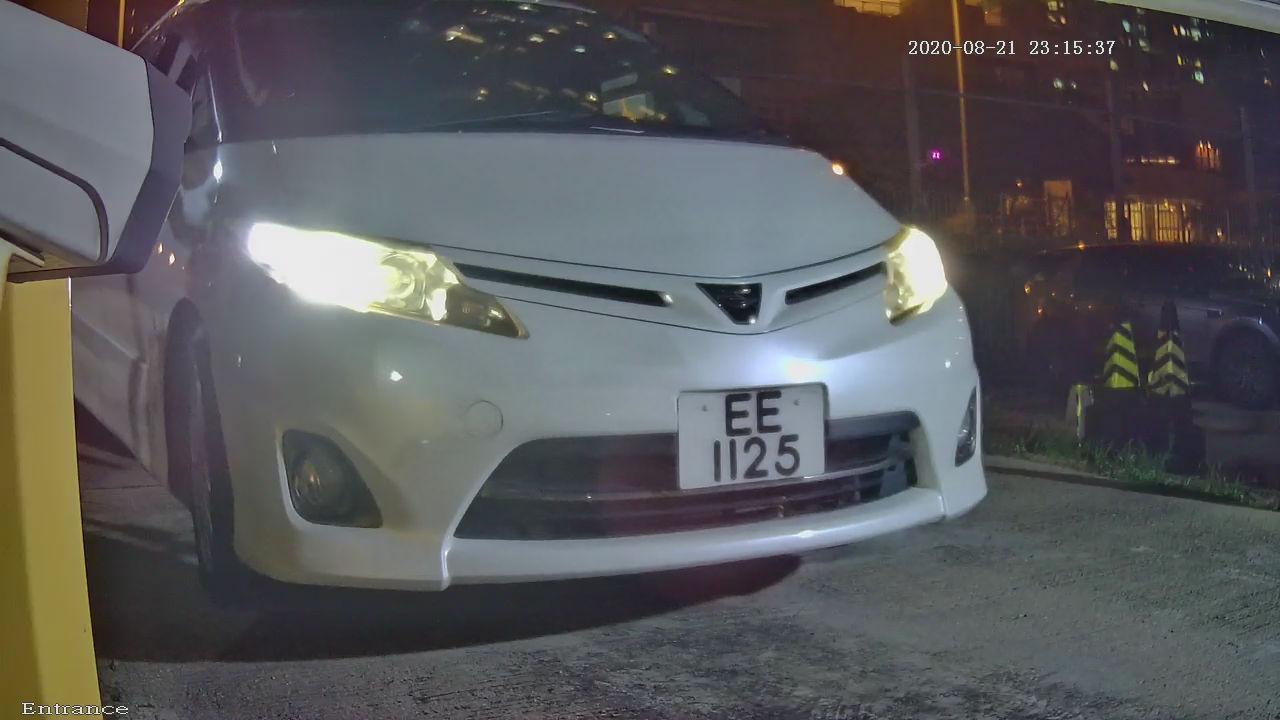Car: (52, 20, 1075, 631)
License Plate: (663, 370, 840, 502)
